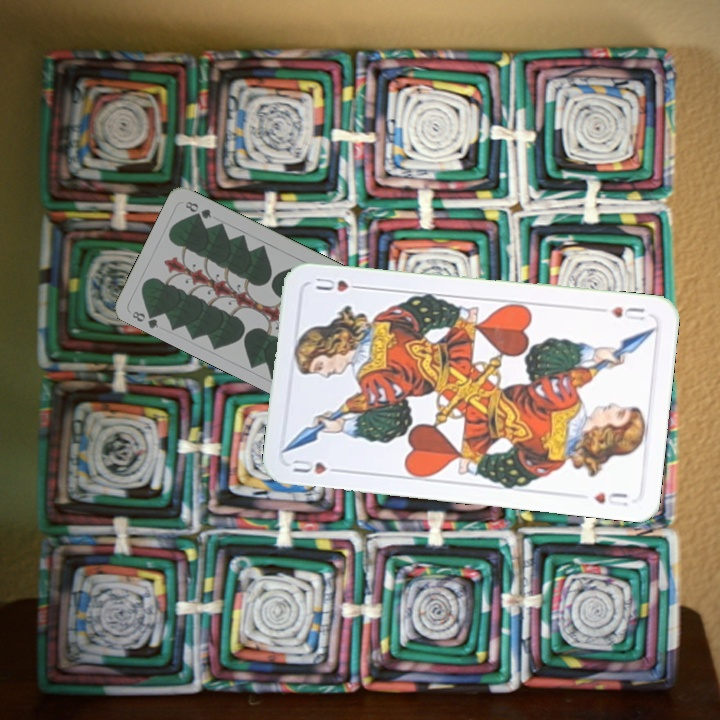G8: (128, 306, 161, 331)
HU: (289, 455, 345, 477), (606, 302, 649, 324)
